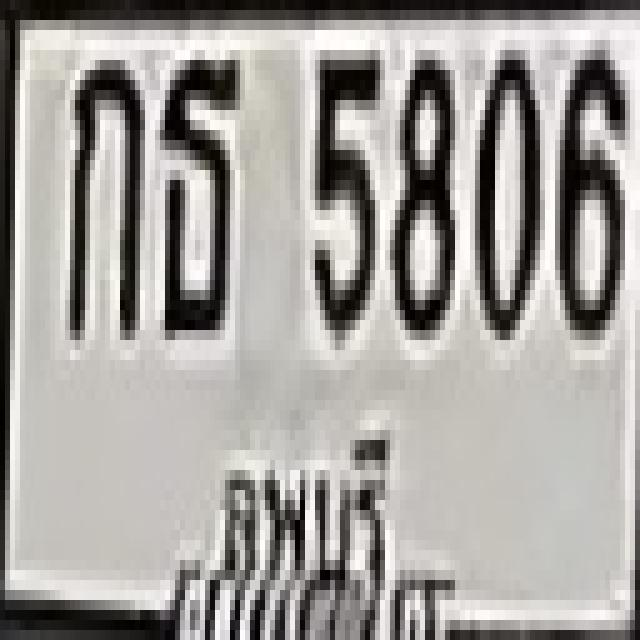-: (158, 50, 238, 330), (65, 50, 140, 330)
0: (470, 40, 535, 330)
5: (310, 50, 375, 330)
6: (555, 40, 620, 330)
8: (390, 50, 450, 330)
LRI: (205, 399, 405, 585)
